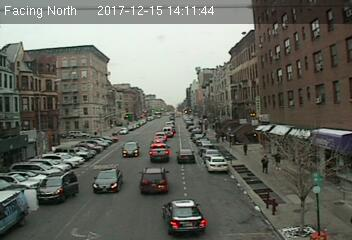car: (161, 197, 207, 235), (36, 171, 79, 201), (138, 168, 170, 194), (93, 168, 122, 192), (205, 154, 229, 173), (149, 144, 171, 162), (120, 141, 141, 158), (176, 149, 195, 163), (162, 126, 174, 137), (154, 132, 166, 140)
pedestrian: (259, 153, 270, 174), (241, 141, 248, 159)
